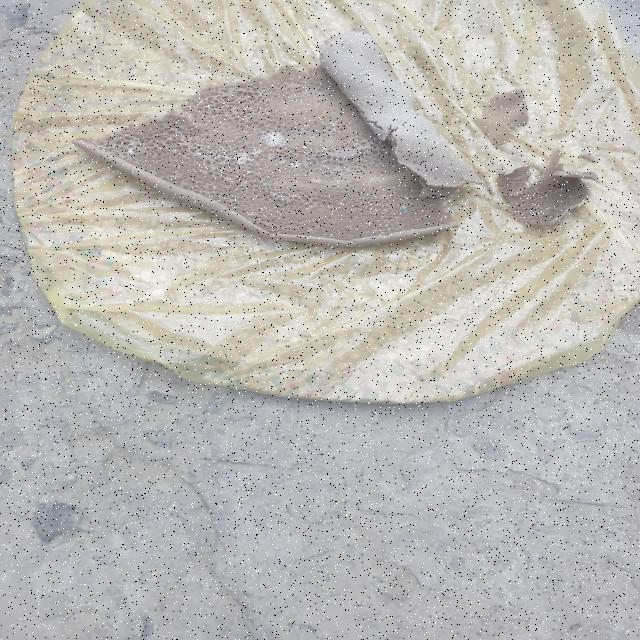injera_mold: (255, 130, 292, 150), (319, 117, 344, 136), (230, 153, 251, 168), (393, 202, 415, 215), (288, 158, 302, 170), (125, 146, 138, 157)
